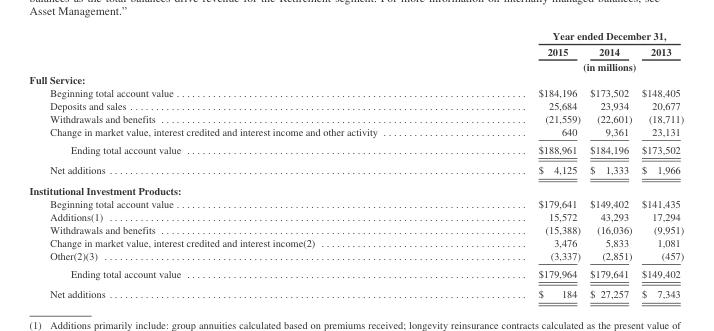table: (28, 29, 683, 299)
table column: (28, 29, 457, 299), (457, 29, 584, 299), (584, 29, 636, 299), (636, 29, 683, 299)
table column header: (28, 29, 683, 72)
table projected row header: (28, 180, 683, 196), (28, 72, 683, 85)
table row: (28, 159, 683, 180), (28, 140, 683, 159), (28, 264, 683, 283), (28, 124, 683, 140), (28, 180, 683, 196), (28, 248, 683, 264), (28, 283, 683, 299), (28, 43, 683, 58), (28, 29, 683, 43), (28, 58, 683, 72), (28, 72, 683, 85), (28, 85, 683, 98), (28, 98, 683, 111), (28, 111, 683, 124), (28, 196, 683, 209), (28, 209, 683, 222), (28, 222, 683, 235), (28, 235, 683, 248)
table spanning cell: (457, 29, 683, 43), (457, 58, 683, 72)
